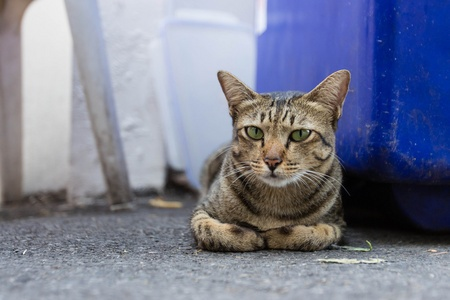cat: (190, 69, 351, 253)
